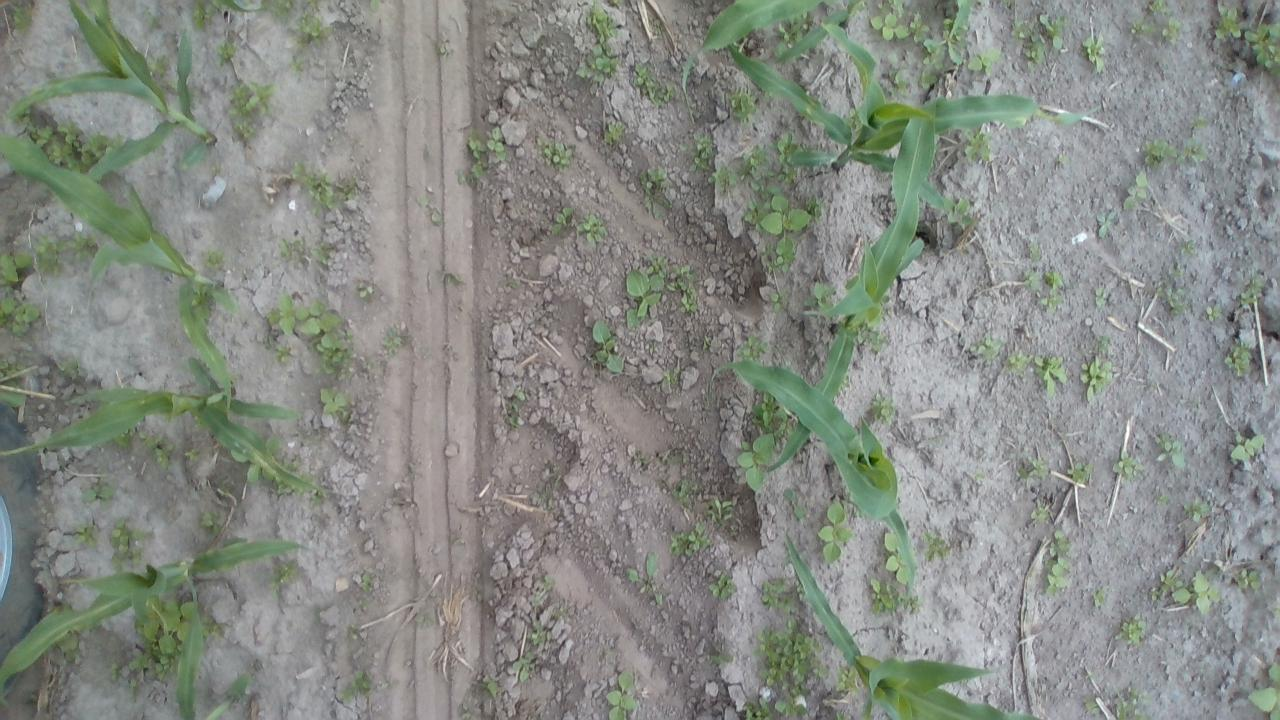Maize: (725, 22, 1097, 216), (0, 128, 233, 412), (764, 97, 934, 474), (782, 529, 1039, 719), (0, 538, 310, 694), (709, 362, 916, 590), (1, 358, 318, 493), (6, 0, 220, 181), (682, 0, 824, 126), (179, 577, 250, 720), (774, 0, 864, 67), (204, 673, 249, 720), (952, 0, 973, 37)
Weeds: (756, 614, 831, 718), (742, 190, 821, 268), (512, 575, 564, 687), (22, 115, 102, 164), (230, 77, 276, 146), (294, 162, 359, 210), (265, 293, 339, 333), (1023, 239, 1064, 310), (141, 594, 186, 658), (110, 649, 168, 695), (622, 270, 668, 328), (36, 230, 96, 274), (736, 433, 775, 496), (462, 126, 504, 184), (819, 497, 855, 563), (638, 164, 674, 222), (626, 552, 664, 606), (1171, 571, 1221, 612), (1248, 659, 1280, 720), (742, 146, 778, 200), (1046, 530, 1073, 602), (923, 18, 966, 63), (1245, 22, 1280, 74), (1078, 356, 1116, 402), (0, 298, 41, 340), (1143, 280, 1187, 319), (316, 333, 354, 378), (630, 62, 672, 102), (296, 0, 334, 44), (869, 580, 918, 614), (606, 668, 638, 720), (108, 520, 144, 566), (594, 322, 624, 375), (882, 532, 911, 585), (1036, 351, 1068, 398), (674, 260, 700, 315), (320, 386, 356, 424), (758, 578, 794, 614), (1113, 685, 1151, 718), (1158, 429, 1190, 468), (1230, 432, 1270, 463), (751, 391, 787, 424), (344, 670, 377, 704), (670, 526, 710, 554), (865, 15, 909, 40), (1042, 12, 1070, 51), (1, 252, 33, 286), (506, 386, 533, 426), (804, 279, 840, 309), (146, 435, 176, 470), (1124, 171, 1150, 210), (1225, 342, 1253, 378), (1082, 31, 1106, 72), (572, 215, 608, 242), (586, 6, 616, 38), (544, 140, 576, 170), (968, 46, 1004, 72), (270, 560, 300, 591), (690, 135, 715, 172), (8, 0, 36, 32), (1152, 569, 1179, 602), (352, 572, 374, 612), (922, 528, 949, 560), (1141, 139, 1177, 163), (1020, 456, 1050, 484), (966, 133, 992, 165), (1214, 8, 1240, 40), (870, 391, 896, 423), (1115, 452, 1144, 480), (717, 162, 741, 195), (709, 574, 737, 602), (1072, 458, 1098, 488), (1122, 611, 1147, 642), (190, 0, 213, 33), (82, 482, 118, 503), (944, 199, 973, 225), (909, 10, 931, 44), (834, 664, 860, 692), (702, 497, 732, 520), (592, 44, 618, 70), (741, 336, 768, 361), (784, 489, 808, 517), (574, 64, 611, 82), (728, 92, 755, 116), (473, 673, 499, 697), (973, 340, 1004, 360), (381, 326, 404, 352), (604, 120, 627, 146), (1008, 348, 1030, 373), (872, 331, 894, 356), (774, 132, 799, 154), (76, 525, 102, 546), (1236, 567, 1262, 588), (645, 255, 671, 276), (711, 644, 735, 666), (0, 391, 31, 408), (1182, 501, 1211, 519), (1097, 212, 1117, 238), (874, 0, 908, 15), (200, 513, 222, 536), (1242, 274, 1260, 302), (316, 238, 334, 266), (551, 207, 570, 233), (740, 703, 769, 720), (1184, 141, 1208, 161), (204, 250, 228, 270), (1009, 21, 1035, 39), (1020, 40, 1043, 60), (1190, 115, 1210, 138), (0, 358, 21, 379), (203, 615, 224, 636), (778, 164, 798, 186), (218, 41, 238, 63), (151, 54, 169, 78), (279, 239, 301, 258), (663, 366, 682, 387), (1130, 18, 1154, 34), (1092, 281, 1106, 308), (290, 55, 306, 78), (148, 9, 164, 32), (1202, 302, 1220, 322), (275, 341, 293, 361), (920, 70, 939, 88), (263, 0, 293, 11), (1032, 506, 1050, 524), (1098, 336, 1114, 356), (1162, 17, 1178, 37), (358, 281, 374, 301), (347, 627, 367, 643), (427, 206, 443, 225), (1144, 0, 1166, 13), (185, 448, 204, 463), (1092, 588, 1105, 607), (674, 484, 691, 498), (702, 334, 715, 352), (770, 293, 784, 309), (1153, 490, 1169, 503), (416, 196, 432, 209), (974, 469, 988, 483), (844, 110, 859, 122), (892, 79, 906, 91), (1084, 700, 1096, 714), (1268, 602, 1280, 615), (1182, 242, 1196, 252), (369, 0, 379, 10), (1004, 0, 1014, 5)
